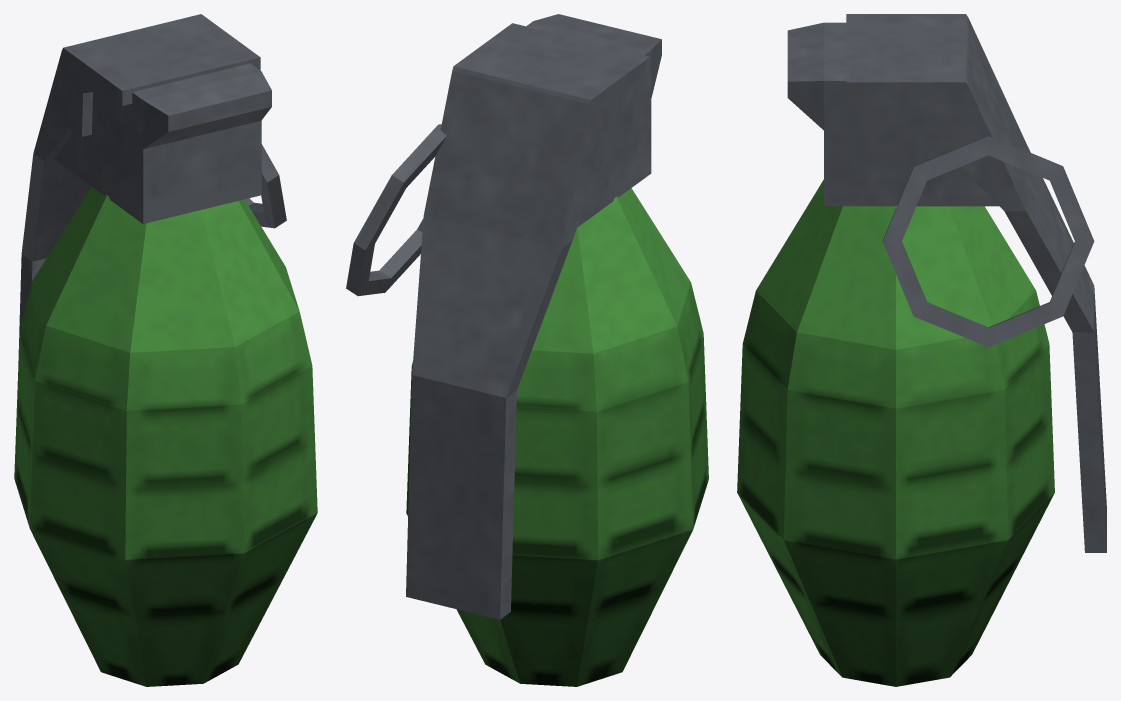
File: grenade model.fbx
3 renders of one model, left to right at view 1: azimuth 30°, elevation 25°; view 2: azimuth 150°, elevation 25°; view 3: azimuth 270°, elevation 25°, orthographic.
Parts seen in each view (by area): view 1: lowpolybody, grenade tip, Pin; view 2: grenade tip, lowpolybody, Pin; view 3: lowpolybody, grenade tip, Pin.
Part boxes in pixels (<box>): lowpolybody: <box>14,187,317,686</box>; grenade tip: <box>18,14,271,362</box>; Pin: <box>245,144,286,228</box>; grenade tip: <box>406,14,661,619</box>; lowpolybody: <box>406,188,708,686</box>; Pin: <box>346,124,446,296</box>; lowpolybody: <box>737,179,1054,686</box>; grenade tip: <box>787,14,1106,552</box>; Pin: <box>882,136,1094,347</box>.
Bounding box in the file's own units: 5.49 × 11.43 × 6.31.
Materials: 1 (1 with a texture image).
